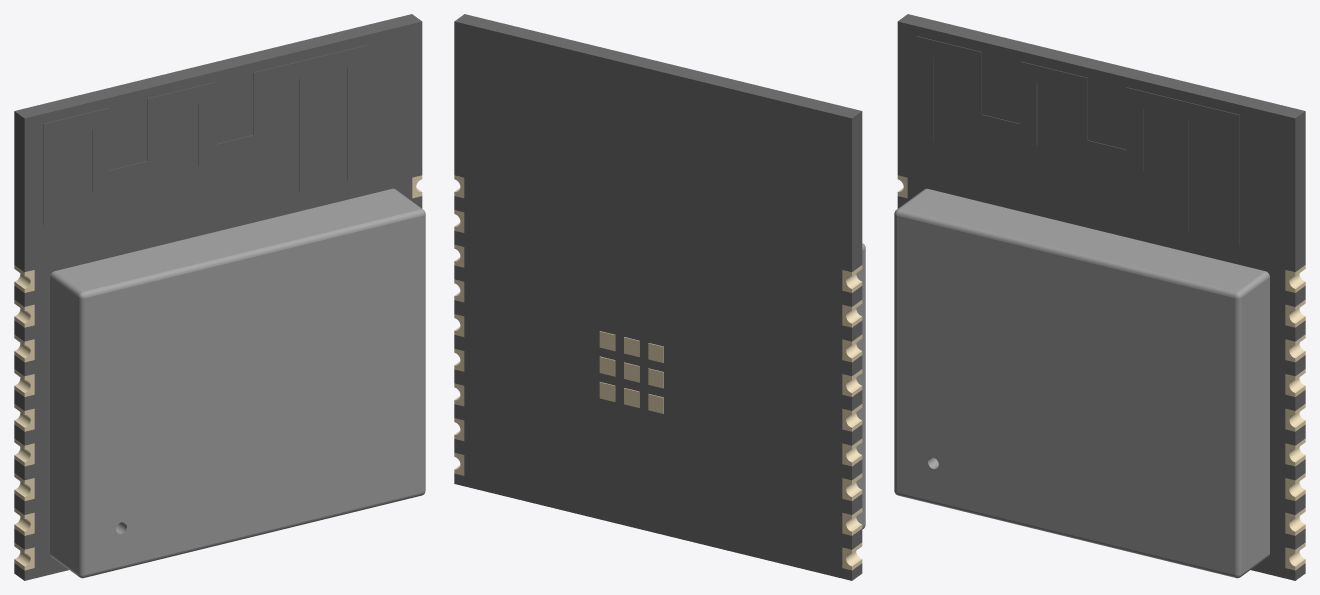
Rendered from ESP32-C3-WROOM-02.glb.
3 views of the same model, side by side, from view 1: azimuth 30°, elevation 25°; view 2: azimuth 150°, elevation 25°; view 3: azimuth 330°, elevation 25° (orthographic).
Visible parts, largest first — view 1: Shape_IndexedFaceSet.096, Shape_IndexedFaceSet.181, Shape_IndexedFaceSet.029, Shape_IndexedFaceSet.084, Shape_IndexedFaceSet.089, Shape_IndexedFaceSet.147, Shape_IndexedFaceSet.088, Shape_IndexedFaceSet.097, Shape_IndexedFaceSet.148, Shape_IndexedFaceSet.101, Shape_IndexedFaceSet.098; view 2: Shape_IndexedFaceSet.180, Shape_IndexedFaceSet.147, Shape_IndexedFaceSet.148, Shape_IndexedFaceSet.089; view 3: Shape_IndexedFaceSet.096, Shape_IndexedFaceSet.181, Shape_IndexedFaceSet.029, Shape_IndexedFaceSet.084, Shape_IndexedFaceSet.090, Shape_IndexedFaceSet.147, Shape_IndexedFaceSet.088, Shape_IndexedFaceSet.098, Shape_IndexedFaceSet.146, Shape_IndexedFaceSet.101, Shape_IndexedFaceSet.097.
Boxes of the visible parts, <box> form: Shape_IndexedFaceSet.096: <box>85,216,422,574</box>; Shape_IndexedFaceSet.181: <box>24,21,422,580</box>; Shape_IndexedFaceSet.029: <box>44,45,367,225</box>; Shape_IndexedFaceSet.084: <box>54,189,419,291</box>; Shape_IndexedFaceSet.089: <box>50,277,77,573</box>; Shape_IndexedFaceSet.147: <box>15,14,421,118</box>; Shape_IndexedFaceSet.088: <box>83,209,422,298</box>; Shape_IndexedFaceSet.097: <box>78,297,84,575</box>; Shape_IndexedFaceSet.148: <box>14,111,24,271</box>; Shape_IndexedFaceSet.101: <box>84,492,422,577</box>; Shape_IndexedFaceSet.098: <box>423,214,425,492</box>; Shape_IndexedFaceSet.180: <box>454,21,851,580</box>; Shape_IndexedFaceSet.147: <box>454,14,861,118</box>; Shape_IndexedFaceSet.148: <box>852,111,862,271</box>; Shape_IndexedFaceSet.089: <box>856,249,864,527</box>; Shape_IndexedFaceSet.096: <box>897,216,1234,574</box>; Shape_IndexedFaceSet.181: <box>897,21,1295,580</box>; Shape_IndexedFaceSet.029: <box>916,36,1239,245</box>; Shape_IndexedFaceSet.084: <box>900,189,1265,291</box>; Shape_IndexedFaceSet.090: <box>1242,277,1269,573</box>; Shape_IndexedFaceSet.147: <box>898,14,1304,118</box>; Shape_IndexedFaceSet.088: <box>897,209,1236,298</box>; Shape_IndexedFaceSet.098: <box>1235,297,1241,575</box>; Shape_IndexedFaceSet.146: <box>1295,111,1305,271</box>; Shape_IndexedFaceSet.101: <box>897,492,1235,577</box>; Shape_IndexedFaceSet.097: <box>894,214,896,492</box>.
Bounding box in the file's own units: 7.09 × 7.87 × 1.27.
